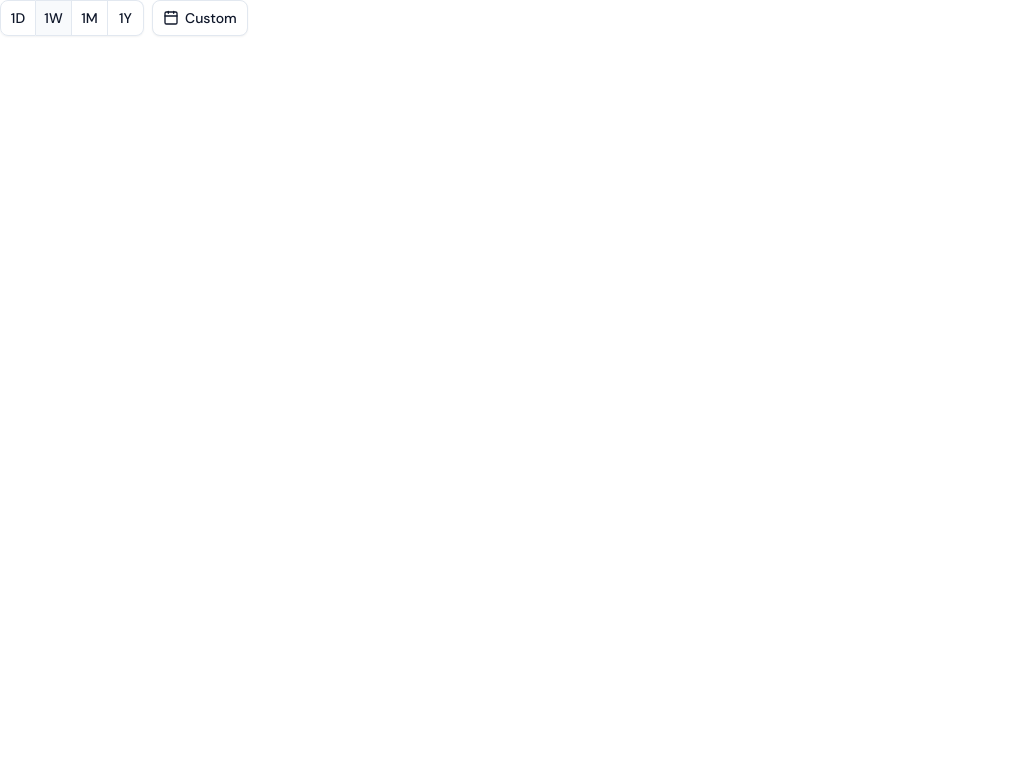
Test: TimeRangeFilter › shows a validation error under End date when it is before Start date
Click the button with aria-label "choose a custom date range".
click(200, 18)  # box [152, 0, 248, 36]
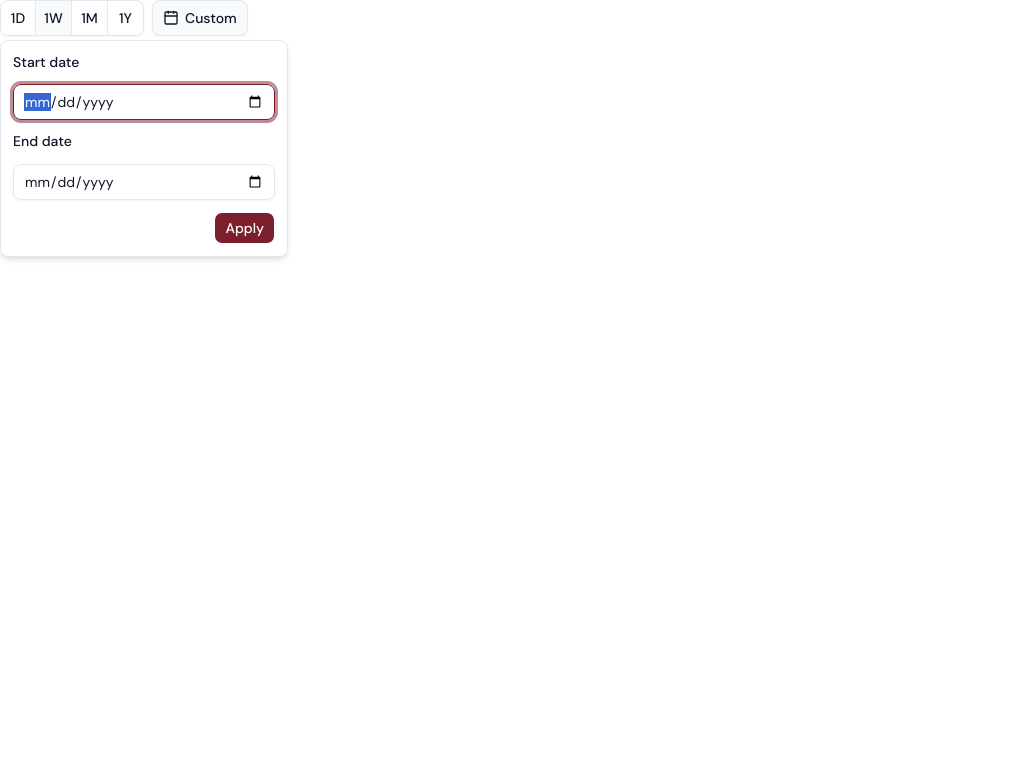
Type "2026-01-05" into the date field labelled "Start date".
click(144, 102); type("2026-01-05")  # box [13, 84, 275, 120]
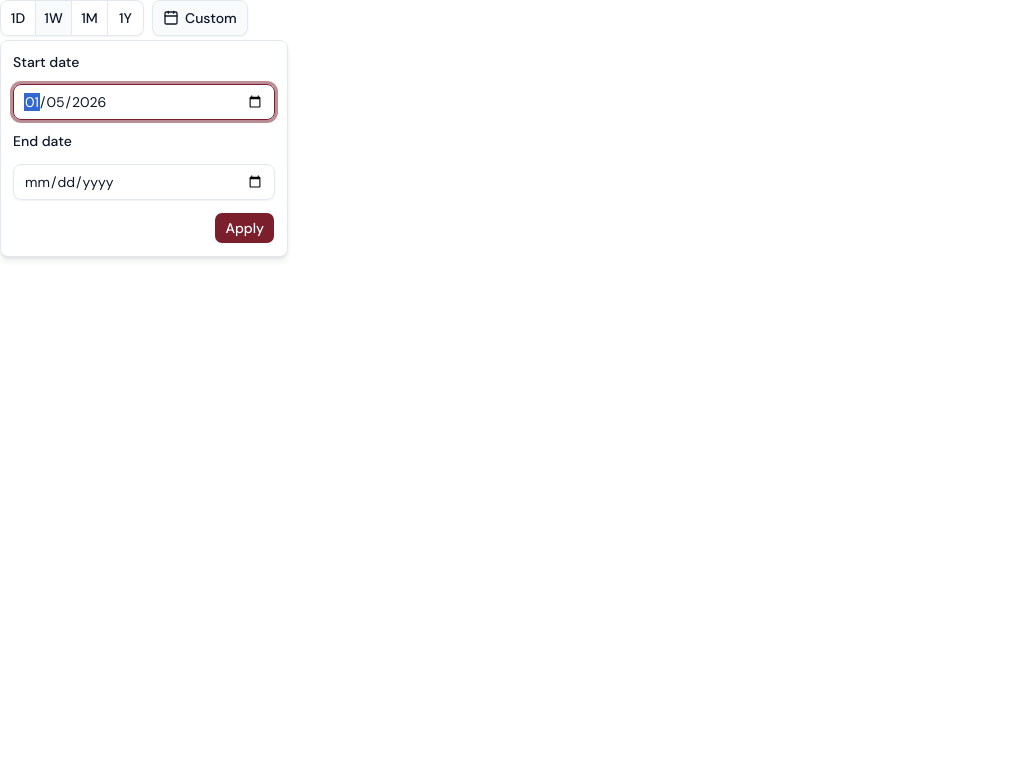
Type "2026-01-01" into the date field labelled "End date".
click(144, 182); type("2026-01-01")  # box [13, 164, 275, 200]
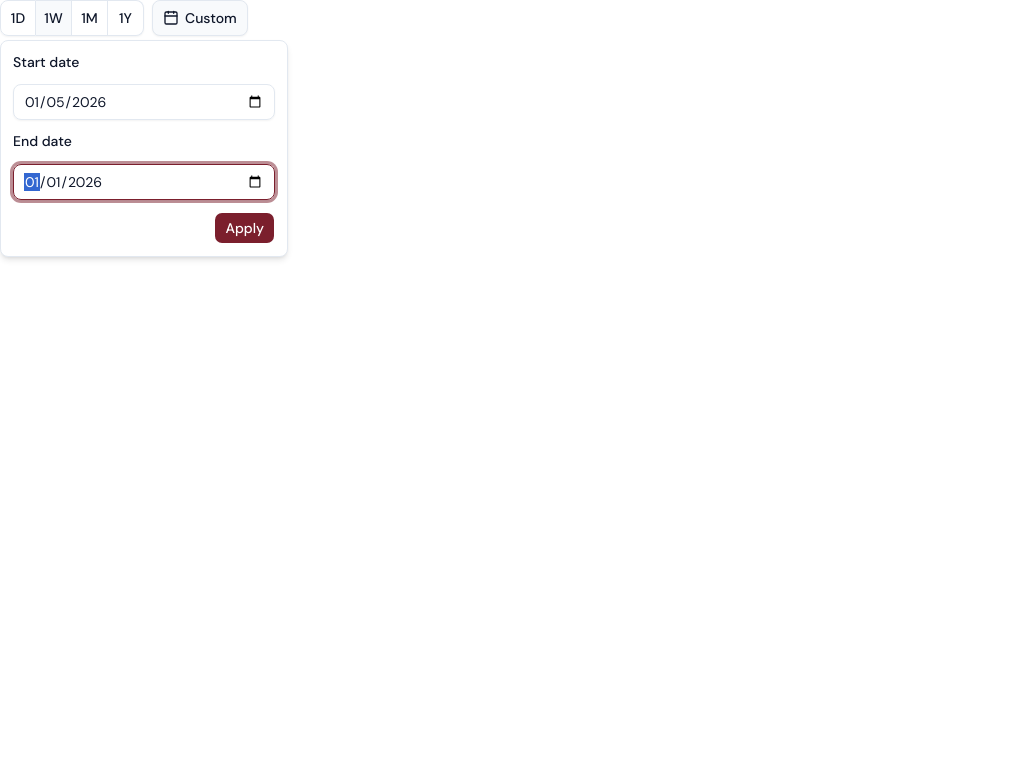
Click the button "Apply".
click(245, 228)  # box [214, 212, 275, 244]
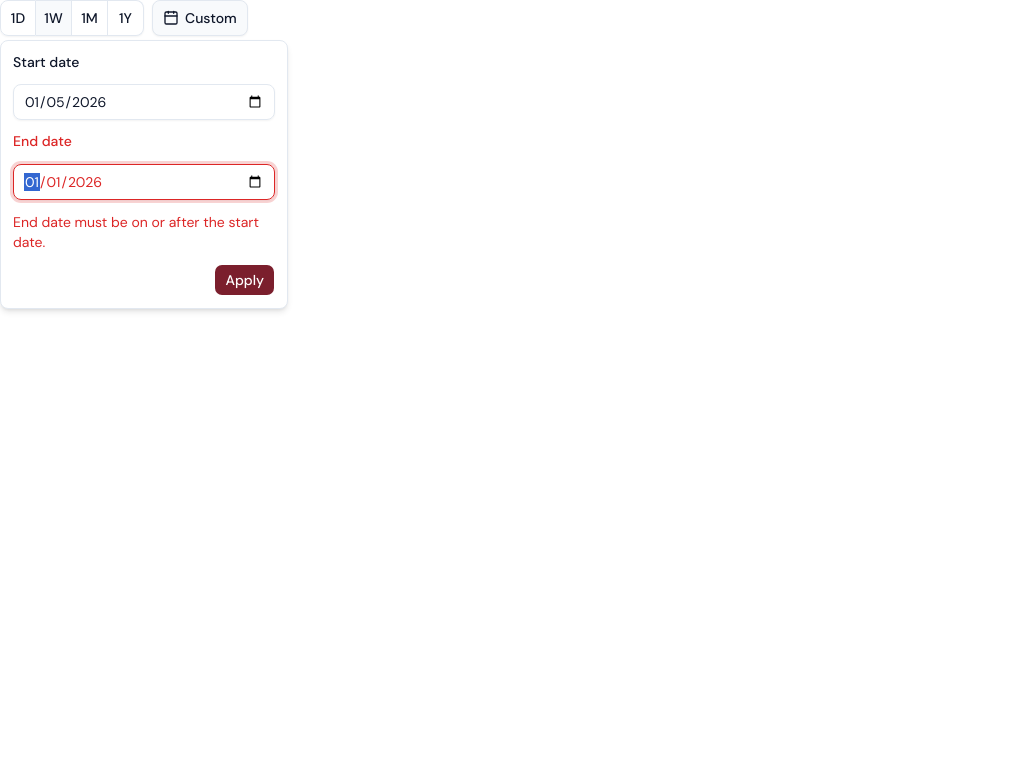
Result: the text "End date must be on or after the start date." is shown at [13, 212, 275, 252]
